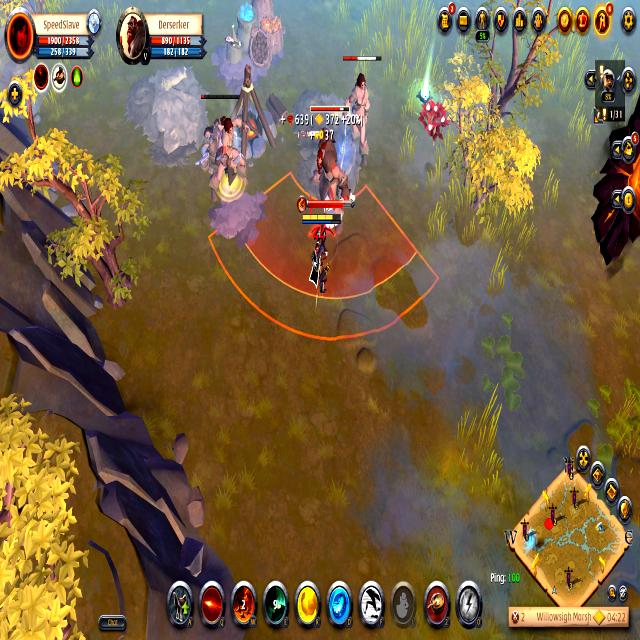hide: (416, 93, 452, 154)
ore: (305, 100, 358, 231), (197, 89, 257, 204), (339, 50, 382, 175)
red: (303, 210, 345, 305)
silver: (205, 168, 442, 342)
